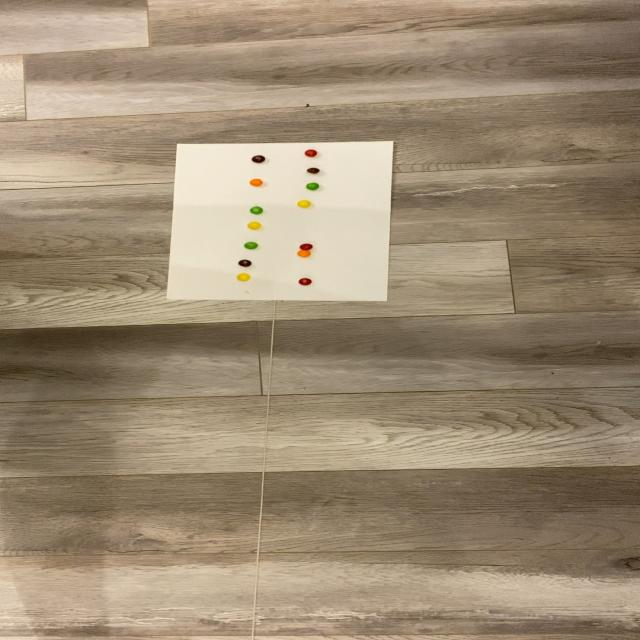smartie: (237, 259, 252, 268), (244, 241, 259, 250), (300, 242, 314, 251), (298, 277, 312, 286), (249, 206, 263, 215), (296, 200, 310, 209), (247, 221, 261, 230), (304, 182, 319, 190), (251, 155, 265, 163), (306, 167, 320, 175), (249, 178, 263, 186), (304, 149, 318, 157), (236, 273, 250, 281), (297, 251, 311, 258)
